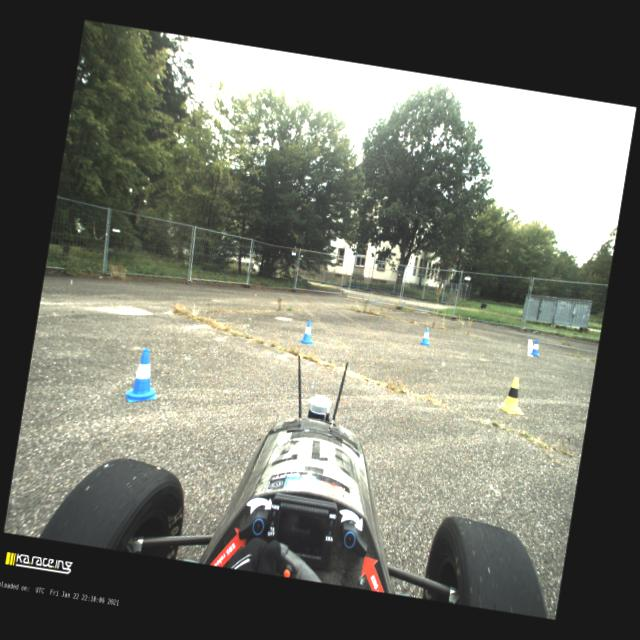blue_cone: (124, 347, 164, 406), (300, 320, 316, 346), (419, 328, 433, 347), (530, 338, 542, 358)
yellow_cone: (496, 375, 530, 416)
